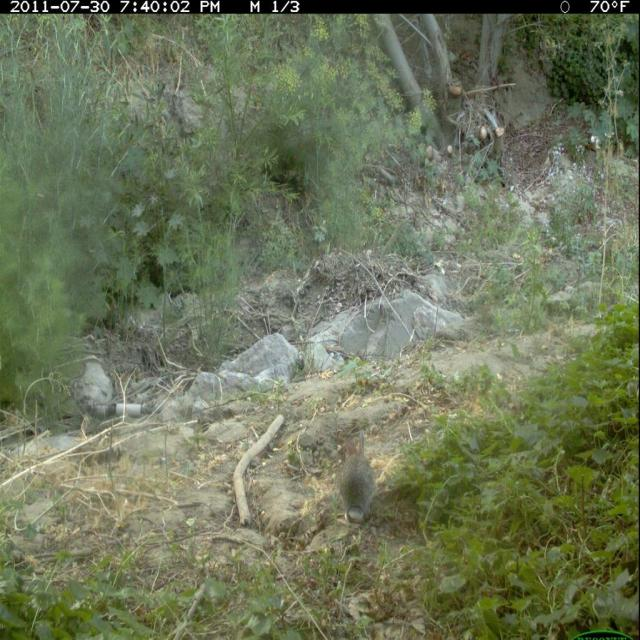rabbit: (328, 419, 383, 536)
